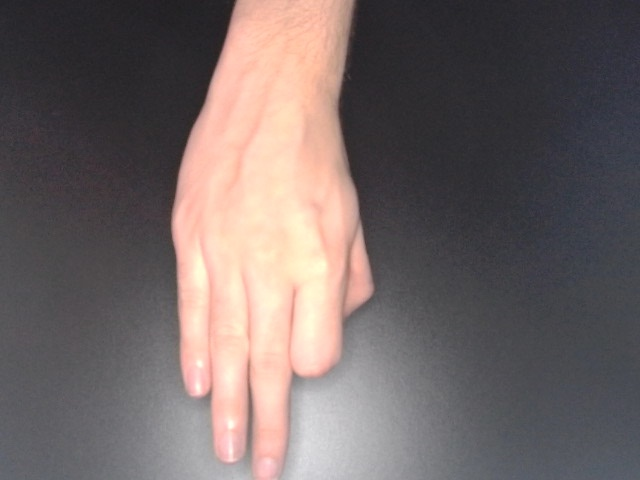m: (164, 8, 382, 480)
